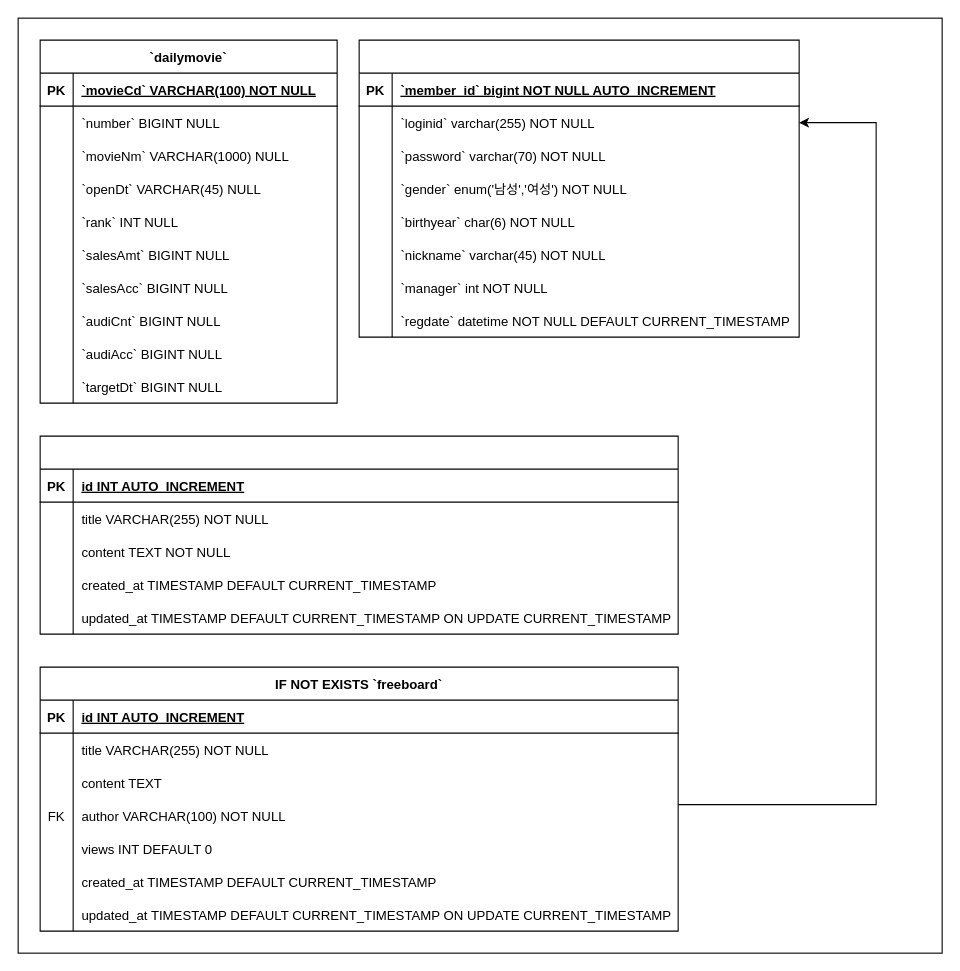
Some shapes in this 960 by 971 pixel diagram are drawn without their labels. The box of each missing label's shape, as (x1, y1, x2, y2) in pixels:
`user`: (358, 39, 799, 337)
IF NOT EXISTS `notice`: (39, 435, 678, 634)
